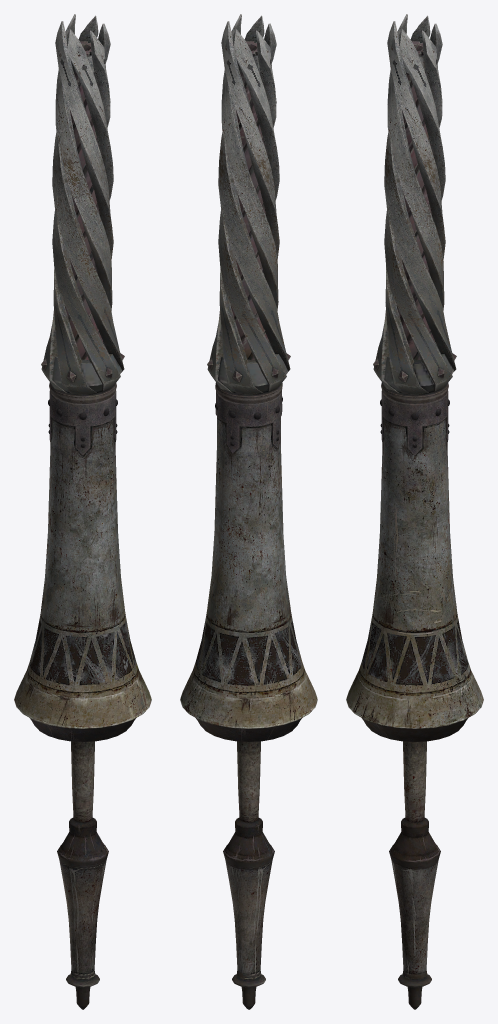
Rendered from bs_lan010.obj.
3 renders of one model, left to right at view 1: azimuth 90°, elevation 25°; view 2: azimuth 150°, elevation 25°; view 3: azimuth 270°, elevation 25°, orthographic.
Visible parts, largest first — view 1: bs_lan010_000_LOD_1, bs_lan010_007_LOD_1, bs_lan010_005_LOD_1, bs_lan010_006_LOD_1, bs_lan010_001_LOD_1, bs_lan010_002_LOD_1; view 2: bs_lan010_000_LOD_1, bs_lan010_007_LOD_1, bs_lan010_005_LOD_1, bs_lan010_006_LOD_1, bs_lan010_001_LOD_1, bs_lan010_002_LOD_1; view 3: bs_lan010_000_LOD_1, bs_lan010_007_LOD_1, bs_lan010_006_LOD_1, bs_lan010_005_LOD_1, bs_lan010_001_LOD_1, bs_lan010_002_LOD_1.
Boxes of the visible parts, box(x1,y1,x2,y2) form: bs_lan010_000_LOD_1: box(14, 382, 151, 1009); bs_lan010_007_LOD_1: box(41, 15, 124, 395); bs_lan010_005_LOD_1: box(55, 14, 112, 341); bs_lan010_006_LOD_1: box(55, 21, 113, 259); bs_lan010_001_LOD_1: box(64, 41, 102, 360); bs_lan010_002_LOD_1: box(52, 342, 122, 393); bs_lan010_000_LOD_1: box(180, 382, 317, 1009); bs_lan010_007_LOD_1: box(218, 14, 290, 395); bs_lan010_005_LOD_1: box(221, 21, 279, 259); bs_lan010_006_LOD_1: box(207, 29, 279, 392); bs_lan010_001_LOD_1: box(230, 41, 269, 360); bs_lan010_002_LOD_1: box(218, 342, 287, 393); bs_lan010_000_LOD_1: box(346, 382, 483, 1009); bs_lan010_007_LOD_1: box(373, 14, 456, 392); bs_lan010_006_LOD_1: box(384, 23, 452, 391); bs_lan010_005_LOD_1: box(385, 30, 442, 395); bs_lan010_001_LOD_1: box(396, 41, 434, 360); bs_lan010_002_LOD_1: box(384, 342, 453, 393).
Size of the model in its own units: 45.26 by 358 by 45.26.
